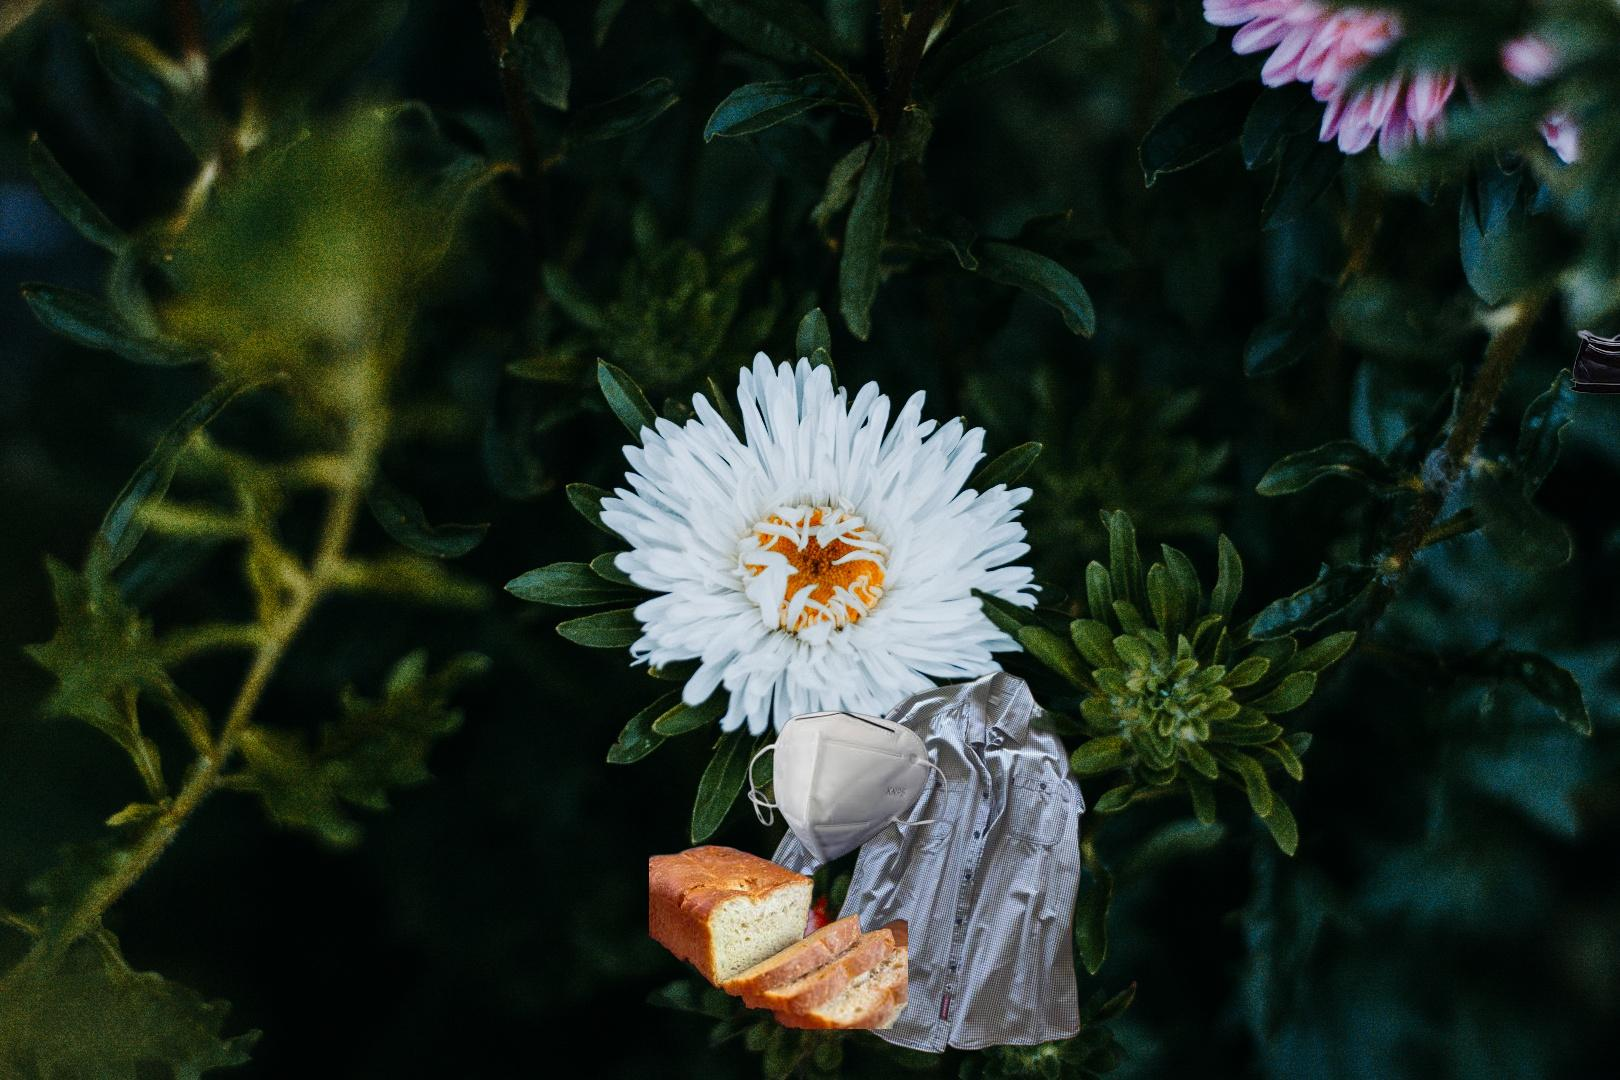biological: (649, 841, 908, 1029)
clothes: (770, 667, 1089, 1059)
plastic-bag: (101, 1077, 368, 1080)
shoes: (1566, 303, 1620, 398)
trash: (745, 708, 959, 869)
